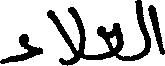X: (48, 2, 83, 65), (0, 29, 41, 65), (100, 18, 123, 65), (135, 0, 149, 64), (151, 0, 164, 59)
